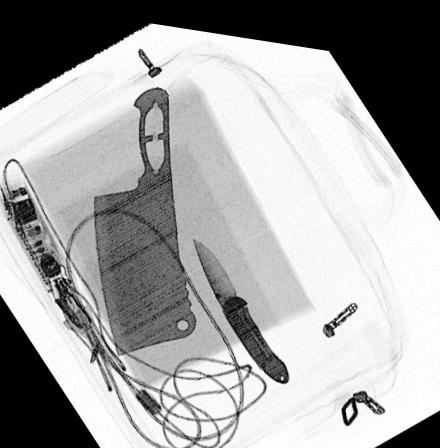Knife: (92, 80, 195, 352), (191, 231, 289, 374)
